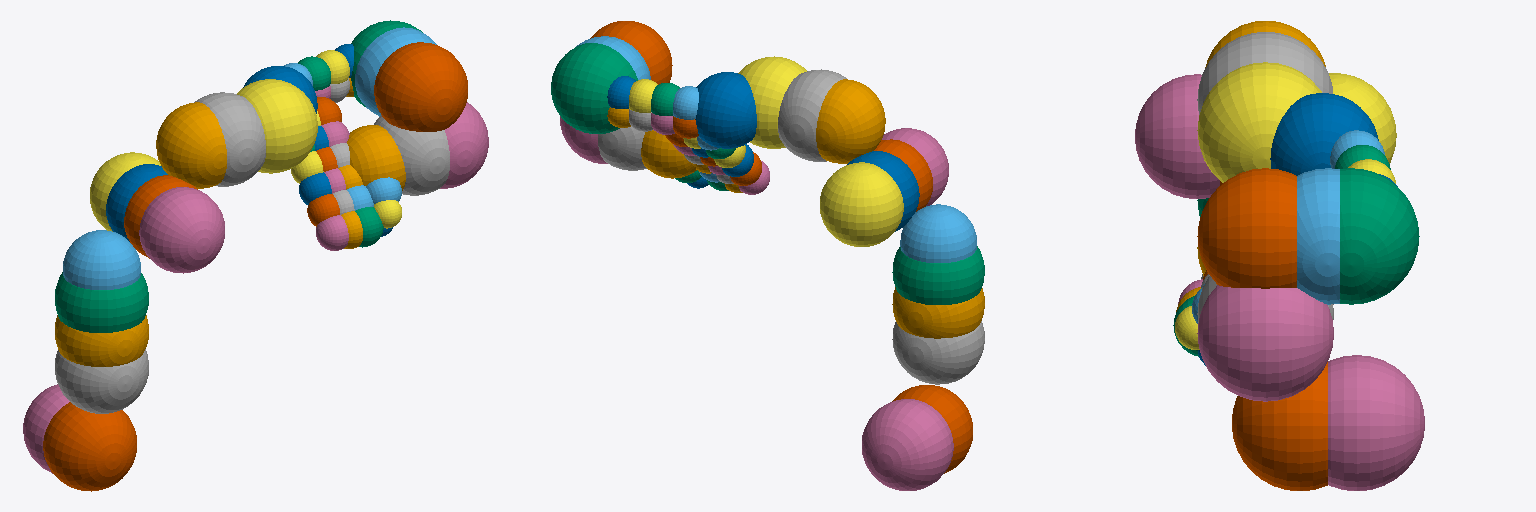
--- Render facts (derived) ---
The picture shows the robot from 3 angles, left to right: view 1: azimuth 30°, elevation 25°; view 2: azimuth 150°, elevation 25°; view 3: azimuth 270°, elevation 25°; orthographic projection.
Model panda with 63 links and 62 joints (7 revolute, 55 fixed), rooted at panda_link0, posed joints at zero except 1 at the middle of their limits (panda_joint4 = -1.57).
Links seen in each view (by area): view 1: panda_link6_0, panda_link2_0, panda_link4_1, panda_link4_3, panda_link5_2, panda_link3_1, panda_link2_2, panda_link3_0, panda_link4_2, panda_link2_3, panda_link6_2, panda_link7_0 (+18 smaller); view 2: panda_link2_1, panda_link3_2, panda_link5_1, panda_link4_3, panda_link5_3, panda_link3_1, panda_link2_2, panda_link3_0, panda_link4_2, panda_link5_2, panda_link2_3, panda_link2_0 (+12 smaller); view 3: panda_link6_1, panda_link2_1, panda_link6_0, panda_link5_1, panda_link5_2, panda_link2_0, panda_link4_1, panda_link5_0, panda_link5_3, panda_link4_2, panda_link3_2, panda_link4_3 (+3 smaller).
Link boxes in pixels (<box>): panda_link6_0: <box>374,42,467,131</box>; panda_link2_0: <box>43,402,136,491</box>; panda_link4_1: <box>139,187,224,273</box>; panda_link4_3: <box>156,102,226,188</box>; panda_link5_2: <box>237,79,317,173</box>; panda_link3_1: <box>55,272,148,332</box>; panda_link2_2: <box>55,349,148,413</box>; panda_link3_0: <box>63,230,140,289</box>; panda_link4_2: <box>194,92,265,186</box>; panda_link2_3: <box>55,315,148,366</box>; panda_link6_2: <box>374,115,449,195</box>; panda_link7_0: <box>347,125,405,190</box>; panda_link2_1: <box>862,399,953,490</box>; panda_link3_2: <box>820,162,903,246</box>; panda_link5_1: <box>551,43,637,133</box>; panda_link4_3: <box>816,79,885,163</box>; panda_link5_3: <box>695,72,756,148</box>; panda_link3_1: <box>892,246,984,304</box>; panda_link2_2: <box>892,321,984,384</box>; panda_link3_0: <box>900,204,976,262</box>; panda_link4_2: <box>778,69,846,161</box>; panda_link5_2: <box>738,56,806,148</box>; panda_link2_3: <box>892,287,984,338</box>; panda_link2_0: <box>892,385,972,473</box>; panda_link6_1: <box>1197,285,1333,401</box>; panda_link2_1: <box>1328,355,1424,490</box>; panda_link6_0: <box>1197,168,1296,288</box>; panda_link5_1: <box>1340,168,1419,304</box>; panda_link5_2: <box>1197,62,1321,182</box>; panda_link2_0: <box>1232,362,1327,490</box>; panda_link4_1: <box>1135,74,1219,198</box>; panda_link5_0: <box>1297,168,1339,304</box>; panda_link5_3: <box>1270,93,1378,175</box>; panda_link4_2: <box>1197,32,1332,114</box>; panda_link3_2: <box>1329,73,1396,163</box>; panda_link4_3: <box>1205,21,1325,67</box>.
Bounding box of the posed robot: 0.6165 × 0.255 × 0.5185 m (x, y, z).
0 mesh visuals loaded from 10 distinct referenced files (none loaded); not drawn: 11 (reference not matched to a file when rendering).

robot.urdf — panda:
<?xml version="1.0" ?>
<robot name="panda" version="1.0">
   <link name="panda_link0">
      <visual>
         <geometry>
            <mesh filename="package://franka_description/meshes/visual/link0.dae"/>
         </geometry>
      </visual>
      <collision>
         <geometry>
            <mesh filename="package://franka_description/meshes/collision/link0.stl"/>
         </geometry>
      </collision>
   </link>
   <link name="panda_link1">
      <visual>
         <geometry>
            <mesh filename="package://franka_description/meshes/visual/link1.dae"/>
         </geometry>
      </visual>
      <collision>
         <geometry>
            <mesh filename="package://franka_description/meshes/collision/link1.stl"/>
         </geometry>
      </collision>
   </link>
   <joint name="panda_joint1" type="revolute">
      <origin xyz="0.0 0.0 0.333" rpy="0.0 0.0 0.0"/>
      <axis xyz="0.0 0.0 1.0"/>
      <parent link="panda_link0"/>
      <child link="panda_link1"/>
      <limit effort="87.0" lower="-2.8973" upper="2.8973" velocity="2.175"/>
      <safety_controller k_velocity="40.0" k_position="100.0" soft_lower_limit="-2.8973" soft_upper_limit="2.8973"/>
   </joint>
   <link name="panda_link2">
      <visual>
         <geometry>
            <mesh filename="package://franka_description/meshes/visual/link2.dae"/>
         </geometry>
      </visual>
      <collision>
         <geometry>
            <mesh filename="package://franka_description/meshes/collision/link2.stl"/>
         </geometry>
      </collision>
   </link>
   <joint name="panda_joint2" type="revolute">
      <origin xyz="0.0 0.0 0.0" rpy="-1.57079632679 0.0 0.0"/>
      <axis xyz="0.0 0.0 1.0"/>
      <parent link="panda_link1"/>
      <child link="panda_link2"/>
      <limit effort="87.0" lower="-1.7628" upper="1.7628" velocity="2.175"/>
      <safety_controller k_velocity="40.0" k_position="100.0" soft_lower_limit="-1.7628" soft_upper_limit="1.7628"/>
   </joint>
   <link name="panda_link3">
      <visual>
         <geometry>
            <mesh filename="package://franka_description/meshes/visual/link3.dae"/>
         </geometry>
      </visual>
      <collision>
         <geometry>
            <mesh filename="package://franka_description/meshes/collision/link3.stl"/>
         </geometry>
      </collision>
   </link>
   <joint name="panda_joint3" type="revolute">
      <origin xyz="0.0 -0.316 0.0" rpy="1.57079632679 0.0 0.0"/>
      <axis xyz="0.0 0.0 1.0"/>
      <parent link="panda_link2"/>
      <child link="panda_link3"/>
      <limit effort="87.0" lower="-2.8973" upper="2.8973" velocity="2.175"/>
      <safety_controller k_velocity="40.0" k_position="100.0" soft_lower_limit="-2.8973" soft_upper_limit="2.8973"/>
   </joint>
   <link name="panda_link4">
      <visual>
         <geometry>
            <mesh filename="package://franka_description/meshes/visual/link4.dae"/>
         </geometry>
      </visual>
      <collision>
         <geometry>
            <mesh filename="package://franka_description/meshes/collision/link4.stl"/>
         </geometry>
      </collision>
   </link>
   <joint name="panda_joint4" type="revolute">
      <origin xyz="0.0825 0.0 0.0" rpy="1.57079632679 0.0 0.0"/>
      <axis xyz="0.0 0.0 1.0"/>
      <parent link="panda_link3"/>
      <child link="panda_link4"/>
      <limit effort="87.0" lower="-3.0718" upper="-0.0698" velocity="2.175"/>
      <safety_controller k_velocity="40.0" k_position="100.0" soft_lower_limit="-3.0718" soft_upper_limit="-0.0698"/>
   </joint>
   <link name="panda_link5">
      <visual>
         <geometry>
            <mesh filename="package://franka_description/meshes/visual/link5.dae"/>
         </geometry>
      </visual>
      <collision>
         <geometry>
            <mesh filename="package://franka_description/meshes/collision/link5.stl"/>
         </geometry>
      </collision>
   </link>
   <joint name="panda_joint5" type="revolute">
      <origin xyz="-0.0825 0.384 0.0" rpy="-1.57079632679 0.0 0.0"/>
      <axis xyz="0.0 0.0 1.0"/>
      <parent link="panda_link4"/>
      <child link="panda_link5"/>
      <limit effort="12.0" lower="-2.8973" upper="2.8973" velocity="2.61"/>
      <safety_controller k_velocity="40.0" k_position="100.0" soft_lower_limit="-2.8973" soft_upper_limit="2.8973"/>
   </joint>
   <link name="panda_link6">
      <visual>
         <geometry>
            <mesh filename="package://franka_description/meshes/visual/link6.dae"/>
         </geometry>
      </visual>
      <collision>
         <geometry>
            <mesh filename="package://franka_description/meshes/collision/link6.stl"/>
         </geometry>
      </collision>
   </link>
   <joint name="panda_joint6" type="revolute">
      <origin xyz="0.0 0.0 0.0" rpy="1.57079632679 0.0 0.0"/>
      <axis xyz="0.0 0.0 1.0"/>
      <parent link="panda_link5"/>
      <child link="panda_link6"/>
      <limit effort="12.0" lower="-0.0175" upper="3.7525" velocity="2.61"/>
      <safety_controller k_velocity="40.0" k_position="100.0" soft_lower_limit="-0.0175" soft_upper_limit="3.7525"/>
   </joint>
   <link name="panda_link7">
      <visual>
         <geometry>
            <mesh filename="package://franka_description/meshes/visual/link7.dae"/>
         </geometry>
      </visual>
      <collision>
         <geometry>
            <mesh filename="package://franka_description/meshes/collision/link7.stl"/>
         </geometry>
      </collision>
   </link>
   <joint name="panda_joint7" type="revolute">
      <origin xyz="0.088 0.0 0.0" rpy="1.57079632679 0.0 0.0"/>
      <axis xyz="0.0 0.0 1.0"/>
      <parent link="panda_link6"/>
      <child link="panda_link7"/>
      <limit effort="12.0" lower="-2.8973" upper="2.8973" velocity="2.61"/>
      <safety_controller k_velocity="40.0" k_position="100.0" soft_lower_limit="-2.8973" soft_upper_limit="2.8973"/>
   </joint>
   <link name="panda_link8"/>
   <joint name="panda_joint8" type="fixed">
      <origin xyz="0.0 0.0 0.107" rpy="0.0 0.0 0.0"/>
      <axis xyz="0.0 0.0 0.0"/>
      <parent link="panda_link7"/>
      <child link="panda_link8"/>
   </joint>
   <joint name="panda_hand_joint" type="fixed">
      <origin xyz="0.0 0.0 0.0" rpy="0.0 0.0 -0.785398163397"/>
      <parent link="panda_link8"/>
      <child link="panda_hand"/>
   </joint>
   <link name="panda_hand">
      <visual>
         <geometry>
            <mesh filename="package://franka_description/meshes/visual/hand.dae"/>
         </geometry>
      </visual>
      <collision>
         <geometry>
            <mesh filename="package://franka_description/meshes/collision/hand.stl"/>
         </geometry>
      </collision>
   </link>
   <link name="panda_leftfinger">
      <visual>
         <geometry>
            <mesh filename="package://franka_description/meshes/visual/finger.dae"/>
         </geometry>
      </visual>
      <collision>
         <geometry>
            <mesh filename="package://franka_description/meshes/collision/finger.stl"/>
         </geometry>
      </collision>
   </link>
   <link name="panda_rightfinger">
      <visual>
         <origin xyz="0.0 0.0 0.0" rpy="0.0 0.0 3.14159265359"/>
         <geometry>
            <mesh filename="package://franka_description/meshes/visual/finger.dae"/>
         </geometry>
      </visual>
      <collision>
         <origin xyz="0.0 0.0 0.0" rpy="0.0 0.0 3.14159265359"/>
         <geometry>
            <mesh filename="package://franka_description/meshes/collision/finger.stl"/>
         </geometry>
      </collision>
   </link>
   <joint name="panda_finger_joint1" type="fixed">
      <origin xyz="0.0 0.04 0.0584" rpy="0.0 0.0 0.0"/>
      <axis xyz="0.0 1.0 0.0"/>
      <parent link="panda_hand"/>
      <child link="panda_leftfinger"/>
      <limit effort="20.0" lower="0.0" upper="0.04" velocity="0.2"/>
   </joint>
   <joint name="panda_finger_joint2" type="fixed">
      <origin xyz="0.0 -0.04 0.0584" rpy="0.0 0.0 0.0"/>
      <axis xyz="0.0 -1.0 0.0"/>
      <parent link="panda_hand"/>
      <child link="panda_rightfinger"/>
      <limit effort="20.0" lower="0.0" upper="0.04" velocity="0.2"/>
      <mimic joint="panda_finger_joint1"/>
   </joint>
   <link name="tool_link"/>
   <joint name="tool_joint" type="fixed">
      <origin xyz="0.0 0.0 0.1" rpy="0.0 0.0 2.35619449019"/>
      <axis xyz="0.0 0.0 1.0"/>
      <parent link="panda_link8"/>
      <child link="tool_link"/>
   </joint>
   <joint name="joint_panda_link2_sphere_0" type="fixed">
      <origin xyz="0.0 0.0 0.03" rpy="0 0 0"/>
      <parent link="panda_link2"/>
      <child link="panda_link2_0"/>
   </joint>
   <link name="panda_link2_0">
      <origin xyz="0.0 0.0 0.0" rpy="0.0 0.0 0.0"/>
      <visual>
         <geometry>
            <sphere radius="0.06"/>
         </geometry>
      </visual>
   </link>
   <joint name="joint_panda_link2_sphere_1" type="fixed">
      <origin xyz="0.0 0.0 0.08" rpy="0 0 0"/>
      <parent link="panda_link2"/>
      <child link="panda_link2_1"/>
   </joint>
   <link name="panda_link2_1">
      <origin xyz="0.0 0.0 0.0" rpy="0.0 0.0 0.0"/>
      <visual>
         <geometry>
            <sphere radius="0.06"/>
         </geometry>
      </visual>
   </link>
   <joint name="joint_panda_link2_sphere_2" type="fixed">
      <origin xyz="0.0 -0.12 0.0" rpy="0 0 0"/>
      <parent link="panda_link2"/>
      <child link="panda_link2_2"/>
   </joint>
   <link name="panda_link2_2">
      <origin xyz="0.0 0.0 0.0" rpy="0.0 0.0 0.0"/>
      <visual>
         <geometry>
            <sphere radius="0.06"/>
         </geometry>
      </visual>
   </link>
   <joint name="joint_panda_link2_sphere_3" type="fixed">
      <origin xyz="0.0 -0.17 0.0" rpy="0 0 0"/>
      <parent link="panda_link2"/>
      <child link="panda_link2_3"/>
   </joint>
   <link name="panda_link2_3">
      <origin xyz="0.0 0.0 0.0" rpy="0.0 0.0 0.0"/>
      <visual>
         <geometry>
            <sphere radius="0.06"/>
         </geometry>
      </visual>
   </link>
   <joint name="joint_panda_link3_sphere_0" type="fixed">
      <origin xyz="0.0 0.0 -0.06" rpy="0 0 0"/>
      <parent link="panda_link3"/>
      <child link="panda_link3_0"/>
   </joint>
   <link name="panda_link3_0">
      <origin xyz="0.0 0.0 0.0" rpy="0.0 0.0 0.0"/>
      <visual>
         <geometry>
            <sphere radius="0.05"/>
         </geometry>
      </visual>
   </link>
   <joint name="joint_panda_link3_sphere_1" type="fixed">
      <origin xyz="0.0 0.0 -0.1" rpy="0 0 0"/>
      <parent link="panda_link3"/>
      <child link="panda_link3_1"/>
   </joint>
   <link name="panda_link3_1">
      <origin xyz="0.0 0.0 0.0" rpy="0.0 0.0 0.0"/>
      <visual>
         <geometry>
            <sphere radius="0.06"/>
         </geometry>
      </visual>
   </link>
   <joint name="joint_panda_link3_sphere_2" type="fixed">
      <origin xyz="0.08 0.06 0.0" rpy="0 0 0"/>
      <parent link="panda_link3"/>
      <child link="panda_link3_2"/>
   </joint>
   <link name="panda_link3_2">
      <origin xyz="0.0 0.0 0.0" rpy="0.0 0.0 0.0"/>
      <visual>
         <geometry>
            <sphere radius="0.055"/>
         </geometry>
      </visual>
   </link>
   <joint name="joint_panda_link3_sphere_3" type="fixed">
      <origin xyz="0.08 0.02 0.0" rpy="0 0 0"/>
      <parent link="panda_link3"/>
      <child link="panda_link3_3"/>
   </joint>
   <link name="panda_link3_3">
      <origin xyz="0.0 0.0 0.0" rpy="0.0 0.0 0.0"/>
      <visual>
         <geometry>
            <sphere radius="0.055"/>
         </geometry>
      </visual>
   </link>
   <joint name="joint_panda_link4_sphere_0" type="fixed">
      <origin xyz="0.0 0.0 0.02" rpy="0 0 0"/>
      <parent link="panda_link4"/>
      <child link="panda_link4_0"/>
   </joint>
   <link name="panda_link4_0">
      <origin xyz="0.0 0.0 0.0" rpy="0.0 0.0 0.0"/>
      <visual>
         <geometry>
            <sphere radius="0.055"/>
         </geometry>
      </visual>
   </link>
   <joint name="joint_panda_link4_sphere_1" type="fixed">
      <origin xyz="0.0 0.0 0.06" rpy="0 0 0"/>
      <parent link="panda_link4"/>
      <child link="panda_link4_1"/>
   </joint>
   <link name="panda_link4_1">
      <origin xyz="0.0 0.0 0.0" rpy="0.0 0.0 0.0"/>
      <visual>
         <geometry>
            <sphere radius="0.055"/>
         </geometry>
      </visual>
   </link>
   <joint name="joint_panda_link4_sphere_2" type="fixed">
      <origin xyz="-0.08 0.095 0.0" rpy="0 0 0"/>
      <parent link="panda_link4"/>
      <child link="panda_link4_2"/>
   </joint>
   <link name="panda_link4_2">
      <origin xyz="0.0 0.0 0.0" rpy="0.0 0.0 0.0"/>
      <visual>
         <geometry>
            <sphere radius="0.06"/>
         </geometry>
      </visual>
   </link>
   <joint name="joint_panda_link4_sphere_3" type="fixed">
      <origin xyz="-0.08 0.06 0.0" rpy="0 0 0"/>
      <parent link="panda_link4"/>
      <child link="panda_link4_3"/>
   </joint>
   <link name="panda_link4_3">
      <origin xyz="0.0 0.0 0.0" rpy="0.0 0.0 0.0"/>
      <visual>
         <geometry>
            <sphere radius="0.055"/>
         </geometry>
      </visual>
   </link>
   <joint name="joint_panda_link5_sphere_0" type="fixed">
      <origin xyz="0.0 0.055 0.0" rpy="0 0 0"/>
      <parent link="panda_link5"/>
      <child link="panda_link5_0"/>
   </joint>
   <link name="panda_link5_0">
      <origin xyz="0.0 0.0 0.0" rpy="0.0 0.0 0.0"/>
      <visual>
         <geometry>
            <sphere radius="0.06"/>
         </geometry>
      </visual>
   </link>
   <joint name="joint_panda_link5_sphere_1" type="fixed">
      <origin xyz="0.0 0.075 0.0" rpy="0 0 0"/>
      <parent link="panda_link5"/>
      <child link="panda_link5_1"/>
   </joint>
   <link name="panda_link5_1">
      <origin xyz="0.0 0.0 0.0" rpy="0.0 0.0 0.0"/>
      <visual>
         <geometry>
            <sphere radius="0.06"/>
         </geometry>
      </visual>
   </link>
   <joint name="joint_panda_link5_sphere_2" type="fixed">
      <origin xyz="0.0 0.0 -0.22" rpy="0 0 0"/>
      <parent link="panda_link5"/>
      <child link="panda_link5_2"/>
   </joint>
   <link name="panda_link5_2">
      <origin xyz="0.0 0.0 0.0" rpy="0.0 0.0 0.0"/>
      <visual>
         <geometry>
            <sphere radius="0.06"/>
         </geometry>
      </visual>
   </link>
   <joint name="joint_panda_link5_sphere_3" type="fixed">
      <origin xyz="0.0 0.05 -0.18" rpy="0 0 0"/>
      <parent link="panda_link5"/>
      <child link="panda_link5_3"/>
   </joint>
   <link name="panda_link5_3">
      <origin xyz="0.0 0.0 0.0" rpy="0.0 0.0 0.0"/>
      <visual>
         <geometry>
            <sphere radius="0.05"/>
         </geometry>
      </visual>
   </link>
   <joint name="joint_panda_link5_sphere_4" type="fixed">
      <origin xyz="0.01 0.08 -0.14" rpy="0 0 0"/>
      <parent link="panda_link5"/>
      <child link="panda_link5_4"/>
   </joint>
   <link name="panda_link5_4">
      <origin xyz="0.0 0.0 0.0" rpy="0.0 0.0 0.0"/>
      <visual>
         <geometry>
            <sphere radius="0.025"/>
         </geometry>
      </visual>
   </link>
   <joint name="joint_panda_link5_sphere_5" type="fixed">
      <origin xyz="0.01 0.085 -0.11" rpy="0 0 0"/>
      <parent link="panda_link5"/>
      <child link="panda_link5_5"/>
   </joint>
   <link name="panda_link5_5">
      <origin xyz="0.0 0.0 0.0" rpy="0.0 0.0 0.0"/>
      <visual>
         <geometry>
            <sphere radius="0.025"/>
         </geometry>
      </visual>
   </link>
   <joint name="joint_panda_link5_sphere_6" type="fixed">
      <origin xyz="0.01 0.09 -0.08" rpy="0 0 0"/>
      <parent link="panda_link5"/>
      <child link="panda_link5_6"/>
   </joint>
   <link name="panda_link5_6">
      <origin xyz="0.0 0.0 0.0" rpy="0.0 0.0 0.0"/>
      <visual>
         <geometry>
            <sphere radius="0.025"/>
         </geometry>
      </visual>
   </link>
   <joint name="joint_panda_link5_sphere_7" type="fixed">
      <origin xyz="0.01 0.095 -0.05" rpy="0 0 0"/>
      <parent link="panda_link5"/>
      <child link="panda_link5_7"/>
   </joint>
   <link name="panda_link5_7">
      <origin xyz="0.0 0.0 0.0" rpy="0.0 0.0 0.0"/>
      <visual>
         <geometry>
            <sphere radius="0.025"/>
         </geometry>
      </visual>
   </link>
   <joint name="joint_panda_link5_sphere_8" type="fixed">
      <origin xyz="-0.01 0.08 -0.14" rpy="0 0 0"/>
      <parent link="panda_link5"/>
      <child link="panda_link5_8"/>
   </joint>
   <link name="panda_link5_8">
      <origin xyz="0.0 0.0 0.0" rpy="0.0 0.0 0.0"/>
      <visual>
         <geometry>
            <sphere radius="0.025"/>
         </geometry>
      </visual>
   </link>
   <joint name="joint_panda_link5_sphere_9" type="fixed">
      <origin xyz="-0.01 0.085 -0.11" rpy="0 0 0"/>
      <parent link="panda_link5"/>
      <child link="panda_link5_9"/>
   </joint>
   <link name="panda_link5_9">
      <origin xyz="0.0 0.0 0.0" rpy="0.0 0.0 0.0"/>
      <visual>
         <geometry>
            <sphere radius="0.025"/>
         </geometry>
      </visual>
   </link>
   <joint name="joint_panda_link5_sphere_10" type="fixed">
      <origin xyz="-0.01 0.09 -0.08" rpy="0 0 0"/>
      <parent link="panda_link5"/>
      <child link="panda_link5_10"/>
   </joint>
   <link name="panda_link5_10">
      <origin xyz="0.0 0.0 0.0" rpy="0.0 0.0 0.0"/>
      <visual>
         <geometry>
            <sphere radius="0.025"/>
         </geometry>
      </visual>
   </link>
   <joint name="joint_panda_link5_sphere_11" type="fixed">
      <origin xyz="-0.01 0.095 -0.05" rpy="0 0 0"/>
      <parent link="panda_link5"/>
      <child link="panda_link5_11"/>
   </joint>
   <link name="panda_link5_11">
      <origin xyz="0.0 0.0 0.0" rpy="0.0 0.0 0.0"/>
      <visual>
         <geometry>
            <sphere radius="0.025"/>
         </geometry>
      </visual>
   </link>
   <joint name="joint_panda_link6_sphere_0" type="fixed">
      <origin xyz="0.0 0.0 0.0" rpy="0 0 0"/>
      <parent link="panda_link6"/>
      <child link="panda_link6_0"/>
   </joint>
   <link name="panda_link6_0">
      <origin xyz="0.0 0.0 0.0" rpy="0.0 0.0 0.0"/>
      <visual>
         <geometry>
            <sphere radius="0.06"/>
         </geometry>
      </visual>
   </link>
   <joint name="joint_panda_link6_sphere_1" type="fixed">
      <origin xyz="0.08 0.03 0.0" rpy="0 0 0"/>
      <parent link="panda_link6"/>
      <child link="panda_link6_1"/>
   </joint>
   <link name="panda_link6_1">
      <origin xyz="0.0 0.0 0.0" rpy="0.0 0.0 0.0"/>
      <visual>
         <geometry>
            <sphere radius="0.06"/>
         </geometry>
      </visual>
   </link>
   <joint name="joint_panda_link6_sphere_2" type="fixed">
      <origin xyz="0.08 -0.01 0.0" rpy="0 0 0"/>
      <parent link="panda_link6"/>
      <child link="panda_link6_2"/>
   </joint>
   <link name="panda_link6_2">
      <origin xyz="0.0 0.0 0.0" rpy="0.0 0.0 0.0"/>
      <visual>
         <geometry>
            <sphere radius="0.06"/>
         </geometry>
      </visual>
   </link>
   <joint name="joint_panda_link7_sphere_0" type="fixed">
      <origin xyz="0.0 0.0 0.07" rpy="0 0 0"/>
      <parent link="panda_link7"/>
      <child link="panda_link7_0"/>
   </joint>
   <link name="panda_link7_0">
      <origin xyz="0.0 0.0 0.0" rpy="0.0 0.0 0.0"/>
      <visual>
         <geometry>
            <sphere radius="0.05"/>
         </geometry>
      </visual>
   </link>
   <joint name="joint_panda_link7_sphere_1" type="fixed">
      <origin xyz="0.02 0.04 0.08" rpy="0 0 0"/>
      <parent link="panda_link7"/>
      <child link="panda_link7_1"/>
   </joint>
   <link name="panda_link7_1">
      <origin xyz="0.0 0.0 0.0" rpy="0.0 0.0 0.0"/>
      <visual>
         <geometry>
            <sphere radius="0.025"/>
         </geometry>
      </visual>
   </link>
   <joint name="joint_panda_link7_sphere_2" type="fixed">
      <origin xyz="0.04 0.02 0.08" rpy="0 0 0"/>
      <parent link="panda_link7"/>
      <child link="panda_link7_2"/>
   </joint>
   <link name="panda_link7_2">
      <origin xyz="0.0 0.0 0.0" rpy="0.0 0.0 0.0"/>
      <visual>
         <geometry>
            <sphere radius="0.025"/>
         </geometry>
      </visual>
   </link>
   <joint name="joint_panda_link7_sphere_3" type="fixed">
      <origin xyz="0.04 0.06 0.085" rpy="0 0 0"/>
      <parent link="panda_link7"/>
      <child link="panda_link7_3"/>
   </joint>
   <link name="panda_link7_3">
      <origin xyz="0.0 0.0 0.0" rpy="0.0 0.0 0.0"/>
      <visual>
         <geometry>
            <sphere radius="0.02"/>
         </geometry>
      </visual>
   </link>
   <joint name="joint_panda_link7_sphere_4" type="fixed">
      <origin xyz="0.06 0.04 0.085" rpy="0 0 0"/>
      <parent link="panda_link7"/>
      <child link="panda_link7_4"/>
   </joint>
   <link name="panda_link7_4">
      <origin xyz="0.0 0.0 0.0" rpy="0.0 0.0 0.0"/>
      <visual>
         <geometry>
            <sphere radius="0.02"/>
         </geometry>
      </visual>
   </link>
   <joint name="joint_panda_hand_sphere_0" type="fixed">
      <origin xyz="0.0 -0.075 0.01" rpy="0 0 0"/>
      <parent link="panda_hand"/>
      <child link="panda_hand_0"/>
   </joint>
   <link name="panda_hand_0">
      <origin xyz="0.0 0.0 0.0" rpy="0.0 0.0 0.0"/>
      <visual>
         <geometry>
            <sphere radius="0.028"/>
         </geometry>
      </visual>
   </link>
   <joint name="joint_panda_hand_sphere_1" type="fixed">
      <origin xyz="0.0 -0.045 0.01" rpy="0 0 0"/>
      <parent link="panda_hand"/>
      <child link="panda_hand_1"/>
   </joint>
   <link name="panda_hand_1">
      <origin xyz="0.0 0.0 0.0" rpy="0.0 0.0 0.0"/>
      <visual>
         <geometry>
            <sphere radius="0.028"/>
         </geometry>
      </visual>
   </link>
   <joint name="joint_panda_hand_sphere_2" type="fixed">
      <origin xyz="0.0 -0.015 0.01" rpy="0 0 0"/>
      <parent link="panda_hand"/>
      <child link="panda_hand_2"/>
   </joint>
   <link name="panda_hand_2">
      <origin xyz="0.0 0.0 0.0" rpy="0.0 0.0 0.0"/>
      <visual>
         <geometry>
            <sphere radius="0.028"/>
         </geometry>
      </visual>
   </link>
   <joint name="joint_panda_hand_sphere_3" type="fixed">
      <origin xyz="0.0 0.015 0.01" rpy="0 0 0"/>
      <parent link="panda_hand"/>
      <child link="panda_hand_3"/>
   </joint>
   <link name="panda_hand_3">
      <origin xyz="0.0 0.0 0.0" rpy="0.0 0.0 0.0"/>
      <visual>
         <geometry>
            <sphere radius="0.028"/>
         </geometry>
      </visual>
   </link>
   <joint name="joint_panda_hand_sphere_4" type="fixed">
      <origin xyz="0.0 0.045 0.01" rpy="0 0 0"/>
      <parent link="panda_hand"/>
      <child link="panda_hand_4"/>
   </joint>
   <link name="panda_hand_4">
      <origin xyz="0.0 0.0 0.0" rpy="0.0 0.0 0.0"/>
      <visual>
         <geometry>
            <sphere radius="0.028"/>
         </geometry>
      </visual>
   </link>
   <joint name="joint_panda_hand_sphere_5" type="fixed">
      <origin xyz="0.0 0.075 0.01" rpy="0 0 0"/>
      <parent link="panda_hand"/>
      <child link="panda_hand_5"/>
   </joint>
   <link name="panda_hand_5">
      <origin xyz="0.0 0.0 0.0" rpy="0.0 0.0 0.0"/>
      <visual>
         <geometry>
            <sphere radius="0.028"/>
         </geometry>
      </visual>
   </link>
   <joint name="joint_panda_hand_sphere_6" type="fixed">
      <origin xyz="0.0 -0.075 0.03" rpy="0 0 0"/>
      <parent link="panda_hand"/>
      <child link="panda_hand_6"/>
   </joint>
   <link name="panda_hand_6">
      <origin xyz="0.0 0.0 0.0" rpy="0.0 0.0 0.0"/>
      <visual>
         <geometry>
            <sphere radius="0.026"/>
         </geometry>
      </visual>
   </link>
   <joint name="joint_panda_hand_sphere_7" type="fixed">
      <origin xyz="0.0 -0.045 0.03" rpy="0 0 0"/>
      <parent link="panda_hand"/>
      <child link="panda_hand_7"/>
   </joint>
   <link name="panda_hand_7">
      <origin xyz="0.0 0.0 0.0" rpy="0.0 0.0 0.0"/>
      <visual>
         <geometry>
            <sphere radius="0.026"/>
         </geometry>
      </visual>
   </link>
   <joint name="joint_panda_hand_sphere_8" type="fixed">
      <origin xyz="0.0 -0.015 0.03" rpy="0 0 0"/>
      <parent link="panda_hand"/>
      <child link="panda_hand_8"/>
   </joint>
   <link name="panda_hand_8">
      <origin xyz="0.0 0.0 0.0" rpy="0.0 0.0 0.0"/>
      <visual>
         <geometry>
            <sphere radius="0.026"/>
         </geometry>
      </visual>
   </link>
   <joint name="joint_panda_hand_sphere_9" type="fixed">
      <origin xyz="0.0 0.015 0.03" rpy="0 0 0"/>
      <parent link="panda_hand"/>
      <child link="panda_hand_9"/>
   </joint>
   <link name="panda_hand_9">
      <origin xyz="0.0 0.0 0.0" rpy="0.0 0.0 0.0"/>
      <visual>
         <geometry>
            <sphere radius="0.026"/>
         </geometry>
      </visual>
   </link>
   <joint name="joint_panda_hand_sphere_10" type="fixed">
      <origin xyz="0.0 0.045 0.03" rpy="0 0 0"/>
      <parent link="panda_hand"/>
      <child link="panda_hand_10"/>
   </joint>
   <link name="panda_hand_10">
      <origin xyz="0.0 0.0 0.0" rpy="0.0 0.0 0.0"/>
      <visual>
         <geometry>
            <sphere radius="0.026"/>
         </geometry>
      </visual>
   </link>
   <joint name="joint_panda_hand_sphere_11" type="fixed">
      <origin xyz="0.0 0.075 0.03" rpy="0 0 0"/>
      <parent link="panda_hand"/>
      <child link="panda_hand_11"/>
   </joint>
   <link name="panda_hand_11">
      <origin xyz="0.0 0.0 0.0" rpy="0.0 0.0 0.0"/>
      <visual>
         <geometry>
            <sphere radius="0.026"/>
         </geometry>
      </visual>
   </link>
   <joint name="joint_panda_hand_sphere_12" type="fixed">
      <origin xyz="0.0 -0.075 0.05" rpy="0 0 0"/>
      <parent link="panda_hand"/>
      <child link="panda_hand_12"/>
   </joint>
   <link name="panda_hand_12">
      <origin xyz="0.0 0.0 0.0" rpy="0.0 0.0 0.0"/>
      <visual>
         <geometry>
            <sphere radius="0.024"/>
         </geometry>
      </visual>
   </link>
   <joint name="joint_panda_hand_sphere_13" type="fixed">
      <origin xyz="0.0 -0.045 0.05" rpy="0 0 0"/>
      <parent link="panda_hand"/>
      <child link="panda_hand_13"/>
   </joint>
   <link name="panda_hand_13">
      <origin xyz="0.0 0.0 0.0" rpy="0.0 0.0 0.0"/>
      <visual>
         <geometry>
            <sphere radius="0.024"/>
         </geometry>
      </visual>
   </link>
   <joint name="joint_panda_hand_sphere_14" type="fixed">
      <origin xyz="0.0 -0.015 0.05" rpy="0 0 0"/>
      <parent link="panda_hand"/>
      <child link="panda_hand_14"/>
   </joint>
   <link name="panda_hand_14">
      <origin xyz="0.0 0.0 0.0" rpy="0.0 0.0 0.0"/>
      <visual>
         <geometry>
            <sphere radius="0.024"/>
         </geometry>
      </visual>
   </link>
   <joint name="joint_panda_hand_sphere_15" type="fixed">
      <origin xyz="0.0 0.015 0.05" rpy="0 0 0"/>
      <parent link="panda_hand"/>
      <child link="panda_hand_15"/>
   </joint>
   <link name="panda_hand_15">
      <origin xyz="0.0 0.0 0.0" rpy="0.0 0.0 0.0"/>
      <visual>
         <geometry>
            <sphere radius="0.024"/>
         </geometry>
      </visual>
   </link>
   <joint name="joint_panda_hand_sphere_16" type="fixed">
      <origin xyz="0.0 0.045 0.05" rpy="0 0 0"/>
      <parent link="panda_hand"/>
      <child link="panda_hand_16"/>
   </joint>
   <link name="panda_hand_16">
      <origin xyz="0.0 0.0 0.0" rpy="0.0 0.0 0.0"/>
      <visual>
         <geometry>
            <sphere radius="0.024"/>
         </geometry>
      </visual>
   </link>
   <joint name="joint_panda_hand_sphere_17" type="fixed">
      <origin xyz="0.0 0.075 0.05" rpy="0 0 0"/>
      <parent link="panda_hand"/>
      <child link="panda_hand_17"/>
   </joint>
   <link name="panda_hand_17">
      <origin xyz="0.0 0.0 0.0" rpy="0.0 0.0 0.0"/>
      <visual>
         <geometry>
            <sphere radius="0.024"/>
         </geometry>
      </visual>
   </link>
</robot>
